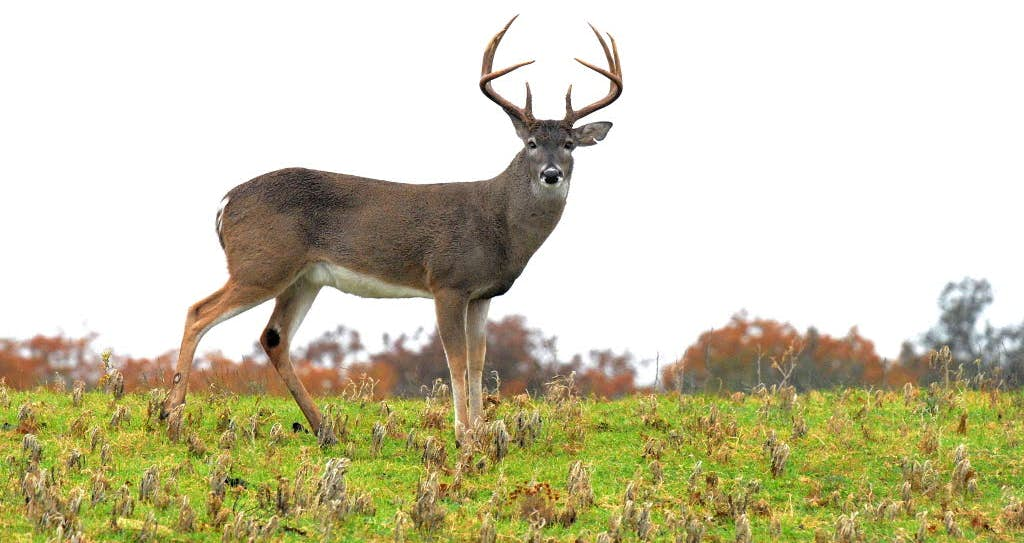Deer: (155, 11, 627, 450)
